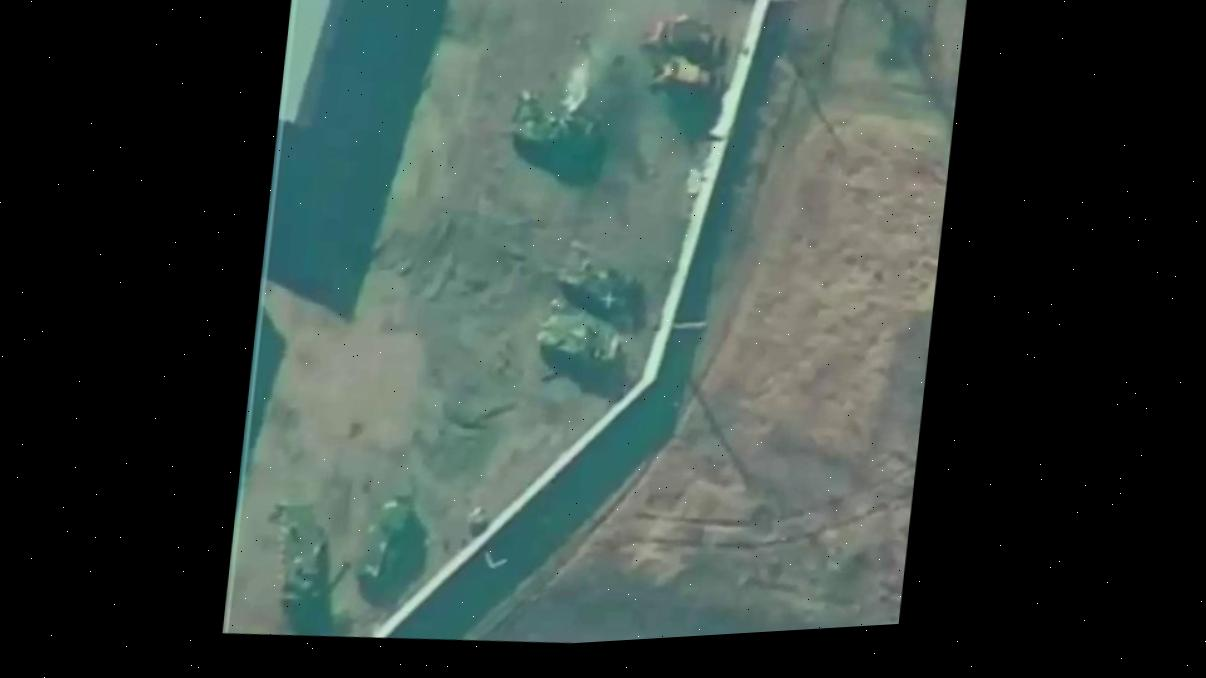tank: (531, 291, 627, 371), (550, 235, 643, 317)
